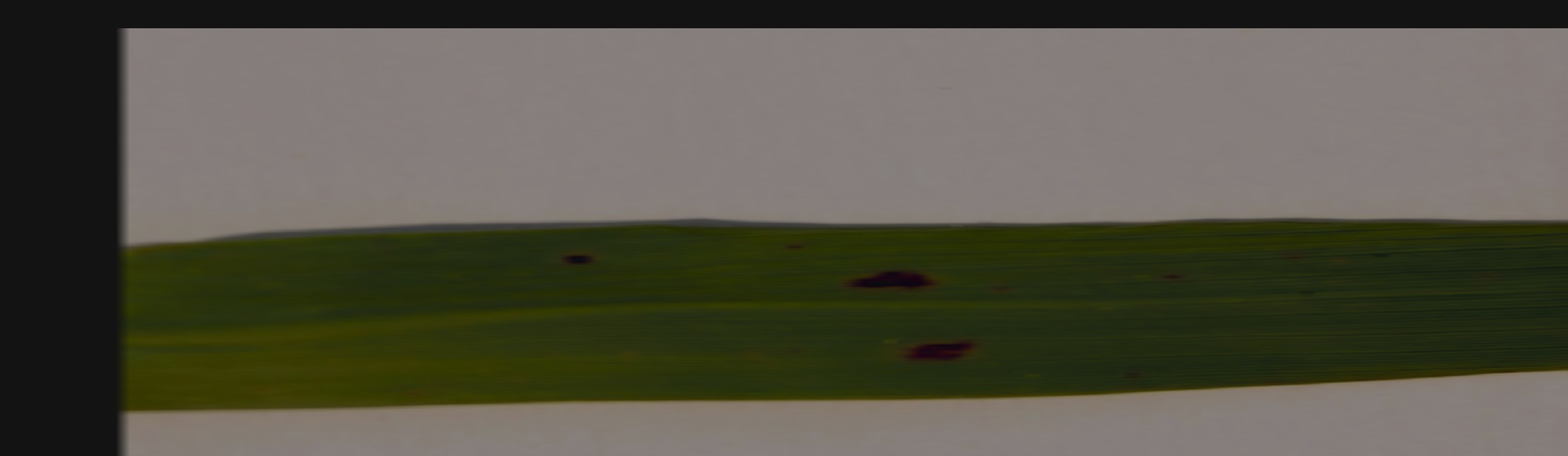Bacterial_Leaf_Blight: (832, 246, 985, 313), (896, 331, 1020, 370), (540, 242, 626, 280)
